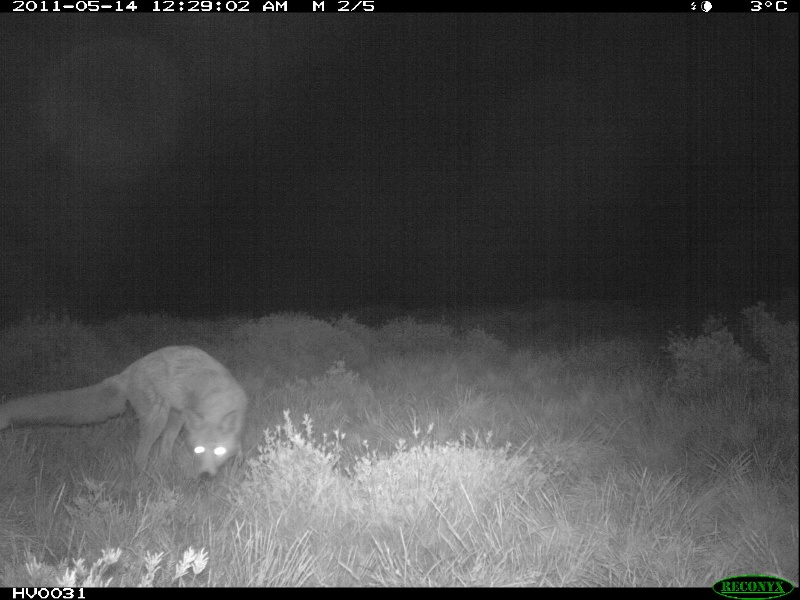fox: (8, 343, 260, 494)
